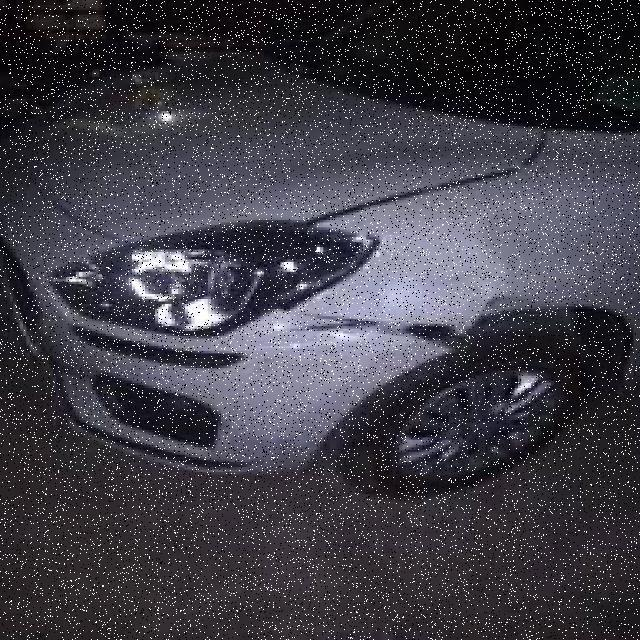front-bumper-dent: (204, 296, 492, 489)
